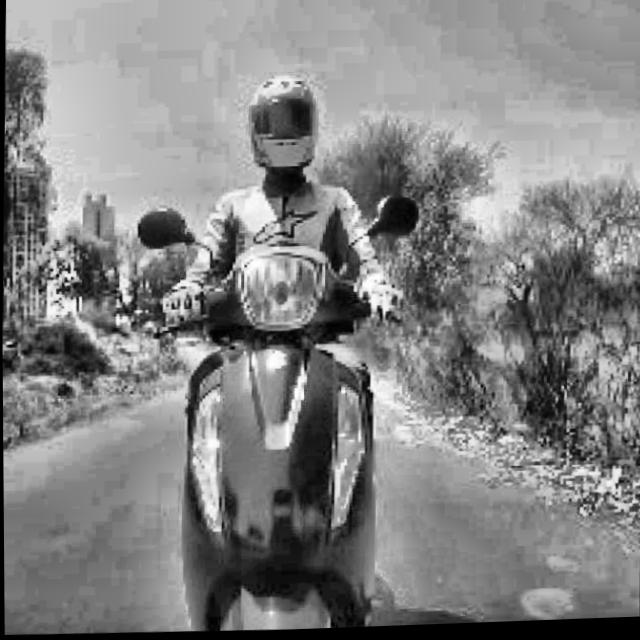motorcycle: (115, 188, 478, 637)
